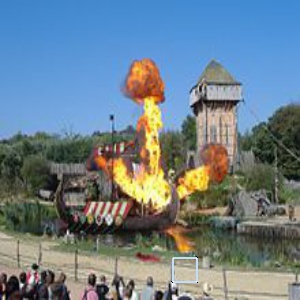square: (171, 255, 198, 284)
